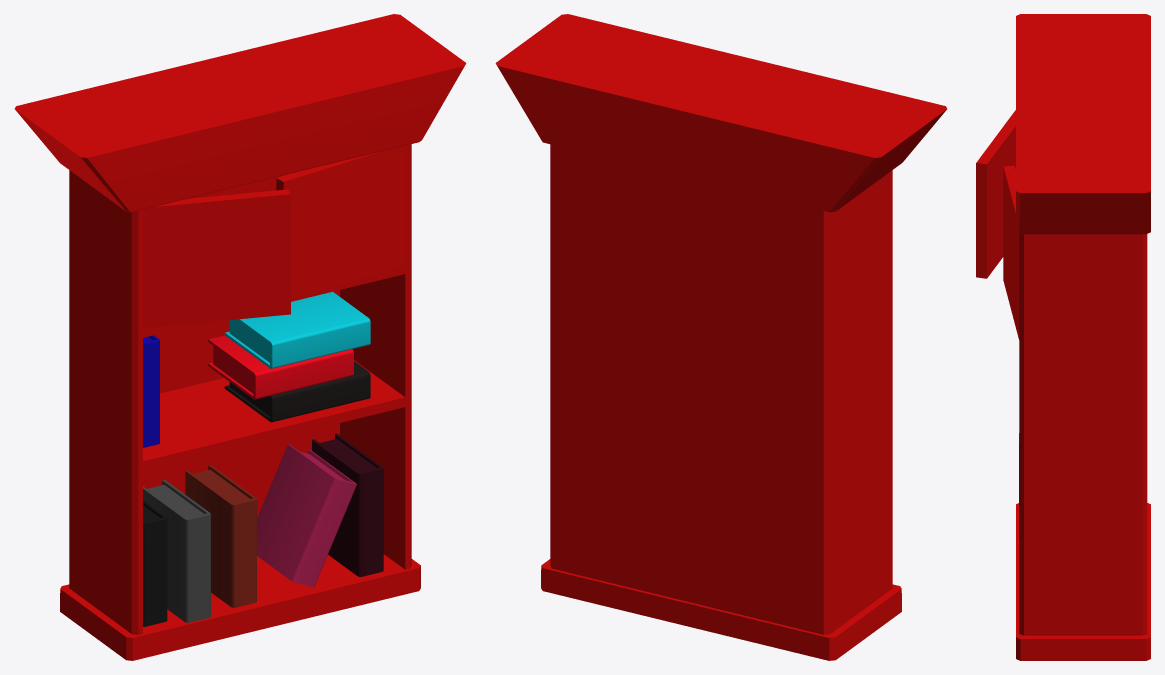
Rendered from bookshelf with books.FBX.
3 renders of one model, left to right at view 1: azimuth 30°, elevation 25°; view 2: azimuth 150°, elevation 25°; view 3: azimuth 270°, elevation 25°, orthographic. The views are drawn at different scales.
Visible parts, largest first — view 1: Bookshelf, Book004, Book008, Book002, Book001, Book003, Book007, Book006, Book, Book005; view 2: Bookshelf; view 3: Bookshelf.
Boxes of the visible parts, x1=… form: Bookshelf: x1=14, y1=14, x2=466, y2=660; Book004: x1=257, y1=444, x2=356, y2=587; Book008: x1=224, y1=291, x2=370, y2=368; Book002: x1=185, y1=464, x2=256, y2=607; Book001: x1=143, y1=479, x2=210, y2=622; Book003: x1=312, y1=433, x2=383, y2=576; Book007: x1=208, y1=335, x2=353, y2=399; Book006: x1=224, y1=361, x2=370, y2=422; Book: x1=143, y1=500, x2=167, y2=626; Book005: x1=143, y1=335, x2=159, y2=447; Bookshelf: x1=495, y1=14, x2=947, y2=660; Bookshelf: x1=976, y1=14, x2=1150, y2=660.
Size of the model in its own units: 1571 by 2000 by 648.
